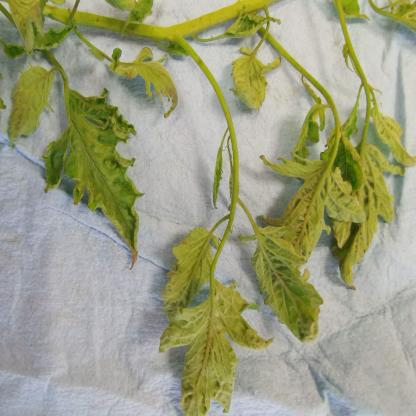T_L_R: (11, 52, 141, 261), (160, 279, 273, 416), (333, 144, 405, 287), (252, 222, 323, 342), (262, 157, 332, 261), (163, 217, 230, 317), (109, 49, 178, 106), (9, 1, 73, 55), (372, 97, 416, 167), (326, 168, 367, 224), (231, 49, 268, 110)
T_S_R: (177, 38, 240, 209), (73, 2, 275, 44), (268, 35, 342, 140), (337, 1, 369, 89), (211, 215, 235, 283), (362, 88, 372, 145)
